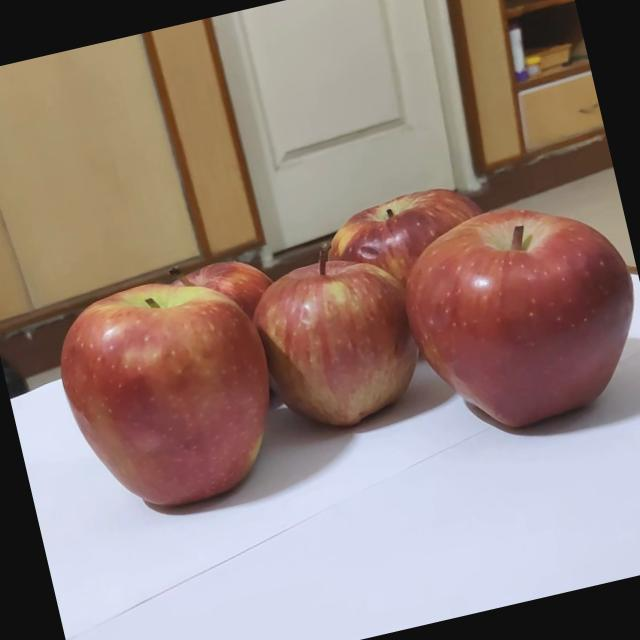apple: (383, 181, 640, 474), (319, 154, 552, 380), (49, 264, 274, 494), (230, 239, 430, 439), (148, 228, 318, 393)
